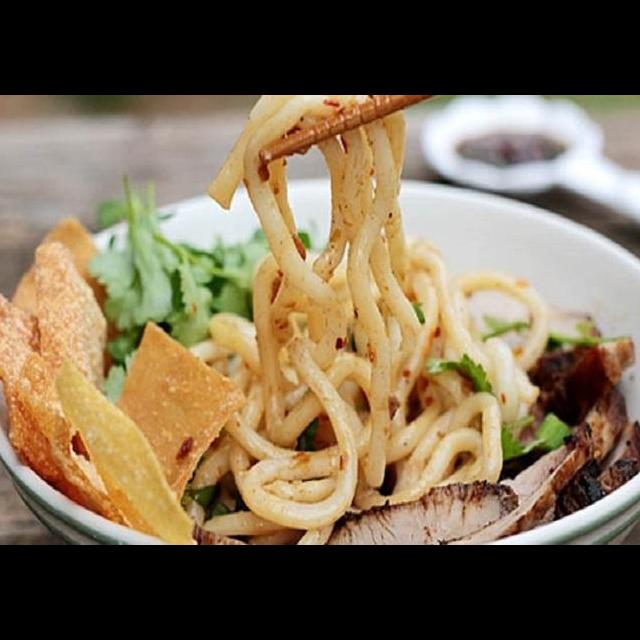banh da: (46, 356, 202, 545), (104, 315, 249, 517), (1, 208, 126, 400), (27, 237, 114, 411), (0, 281, 71, 494)
mi: (179, 96, 555, 541)
mi quang: (0, 130, 640, 539)
thit heo: (439, 383, 634, 545), (504, 330, 640, 451), (321, 475, 525, 545), (529, 415, 640, 531)
